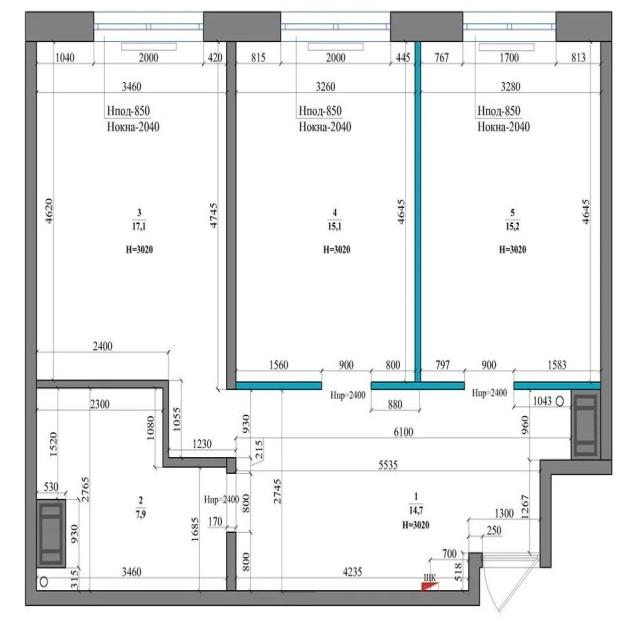Corridors: (169, 391, 570, 590)
Doors: (483, 552, 540, 615), (226, 474, 236, 531), (169, 380, 226, 390), (322, 381, 370, 390), (465, 381, 514, 389)
LBwalls: (25, 40, 484, 607), (539, 42, 613, 569), (226, 41, 236, 390), (203, 11, 281, 42), (391, 11, 463, 43), (25, 11, 95, 42), (556, 11, 613, 42), (226, 532, 237, 590), (226, 456, 236, 473)
Offices: (37, 42, 226, 380), (422, 42, 601, 380), (236, 42, 414, 381), (37, 389, 226, 590)
Walls: (370, 42, 465, 390), (37, 380, 226, 468), (514, 381, 601, 390), (236, 381, 322, 390)
Windows: (94, 12, 204, 43), (281, 12, 391, 43), (463, 12, 556, 43)
